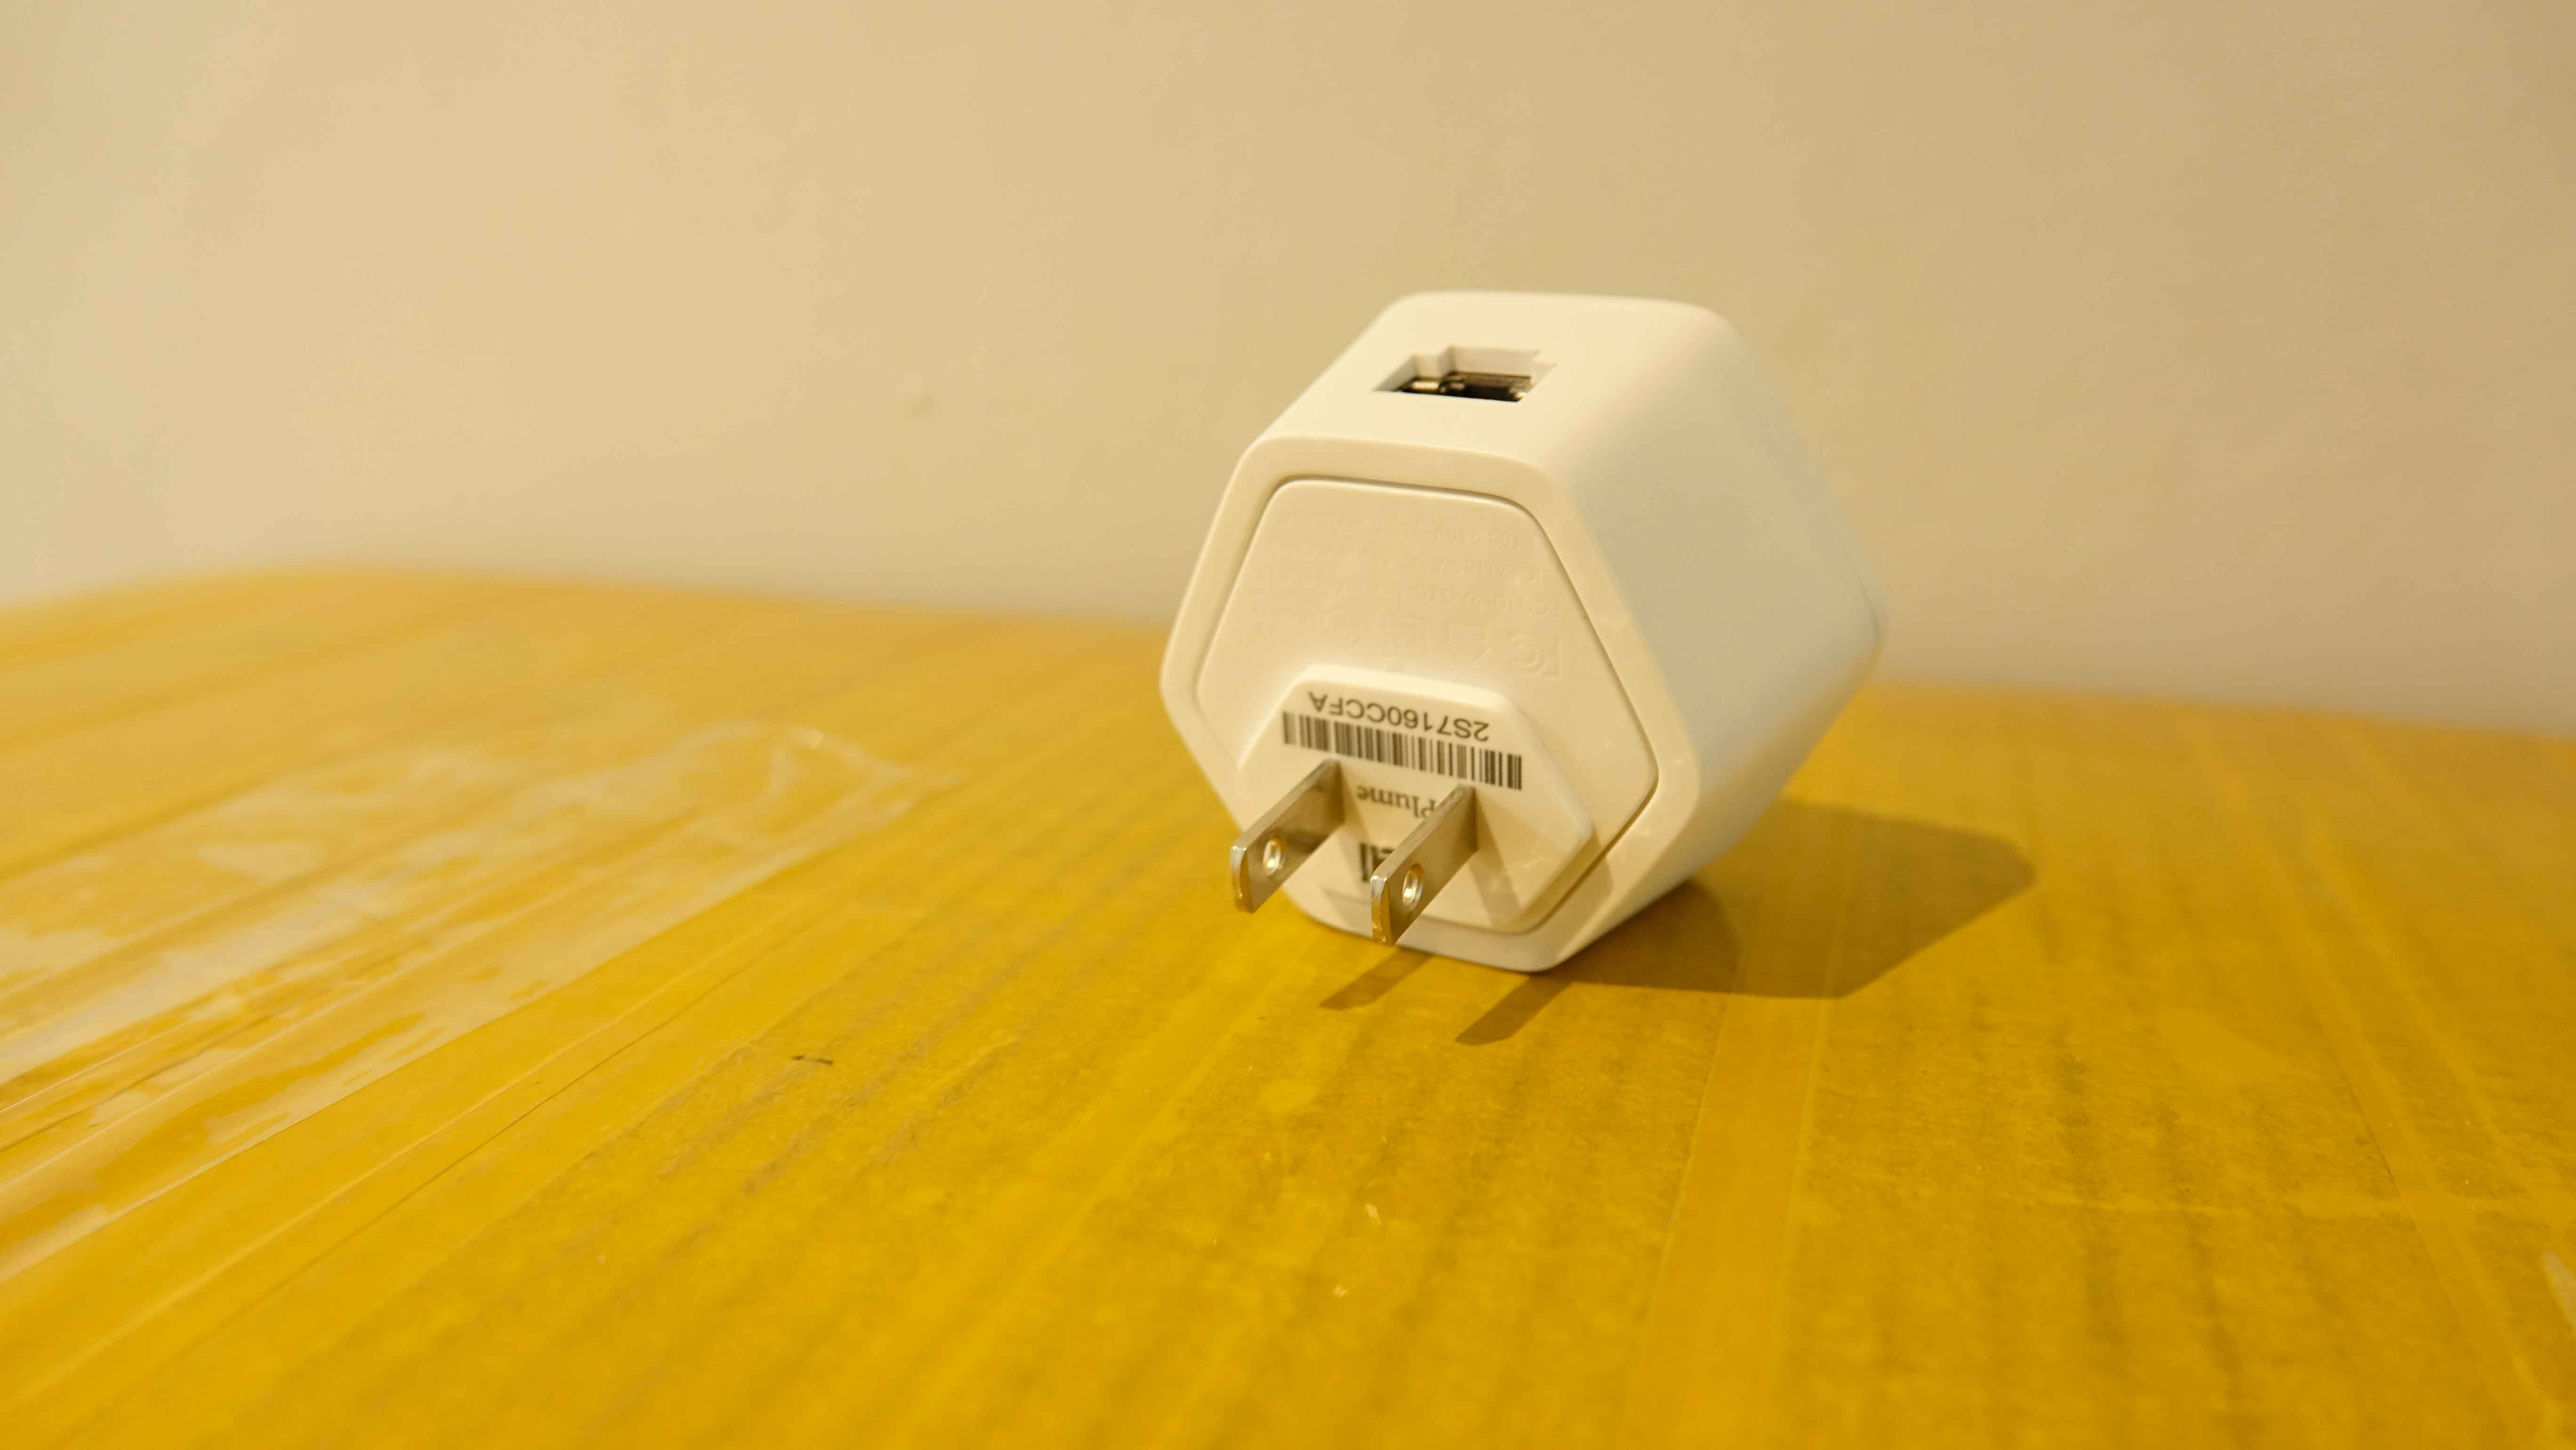pod: (1146, 272, 1890, 988)
